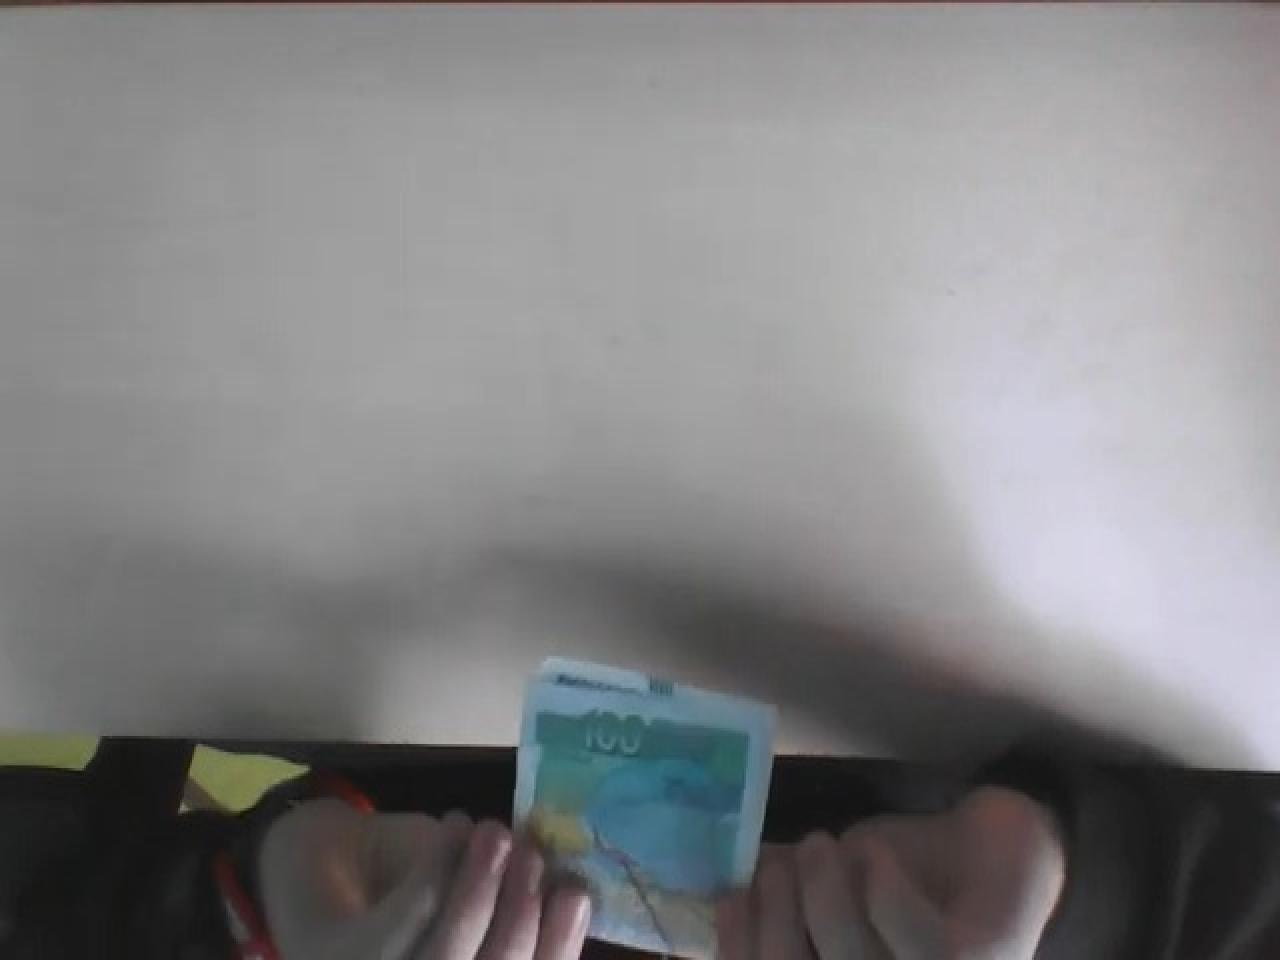100leva: (514, 653, 776, 960)
